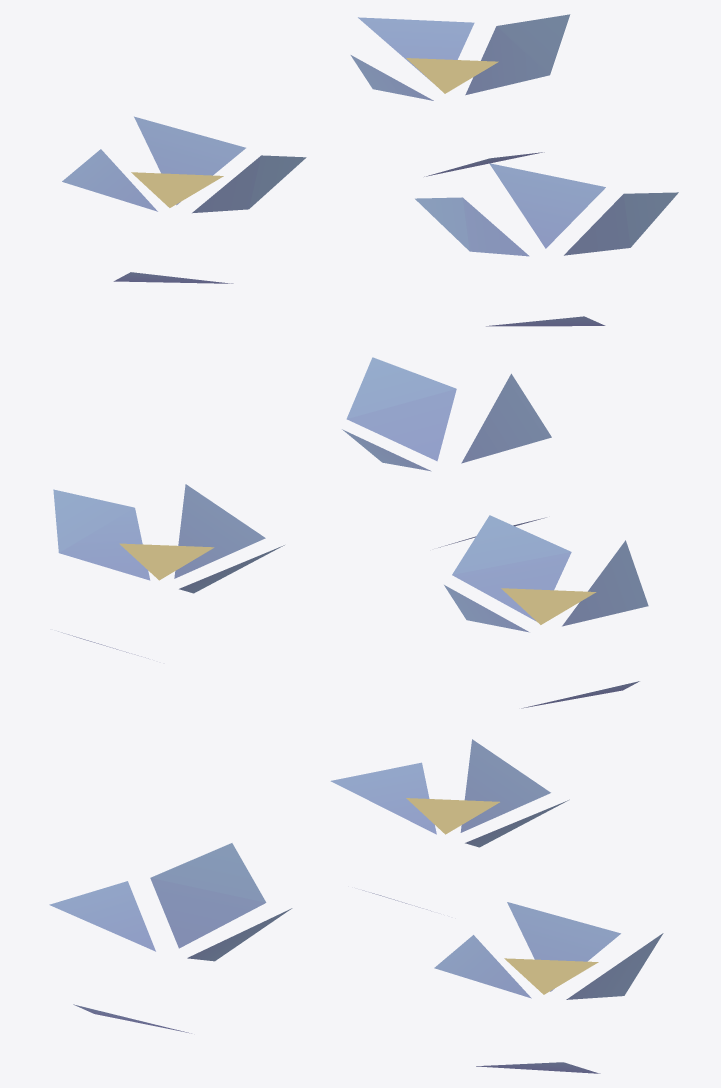
File: flowers.glb
The picture shows the model from 3 angles, top to bottom: view 1: azimuth 30°, elevation 25°; view 2: azimuth 150°, elevation 25°; view 3: azimuth 270°, elevation 25°; orthographic projection. The views are drawn at different scales.
Visible parts, largest first — view 1: flowers; view 2: flowers; view 3: flowers.
Part boxes in pixels (<box>): flowers: <box>62,14,678,326</box>; flowers: <box>53,357,648,708</box>; flowers: <box>49,739,663,1073</box>.
Bounding box in the file's own units: 0.7824 × 0.137 × 0.7842.
